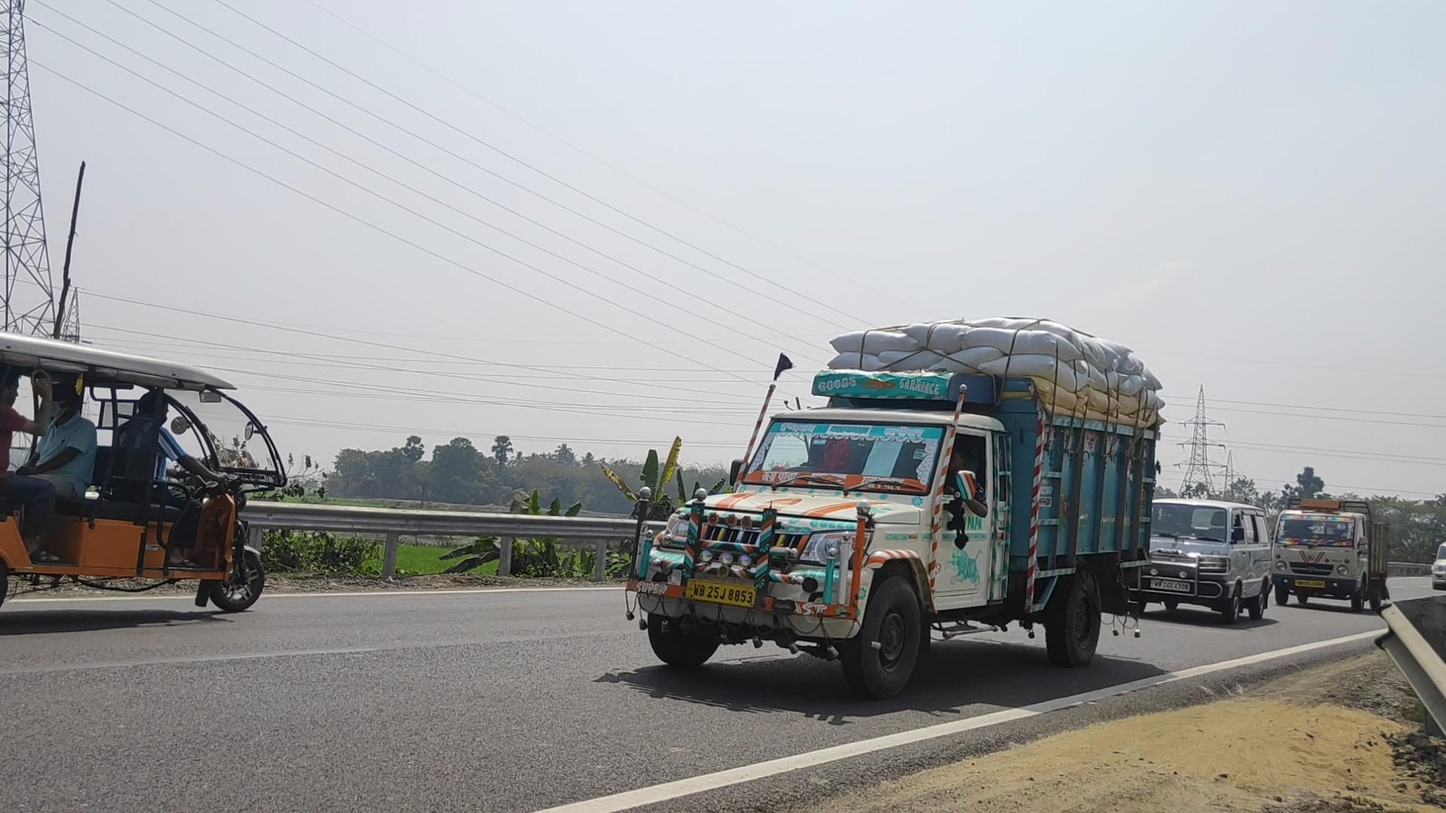Auto: (2, 333, 288, 623)
van: (625, 317, 1168, 700), (1137, 497, 1273, 624), (1273, 498, 1391, 613)
